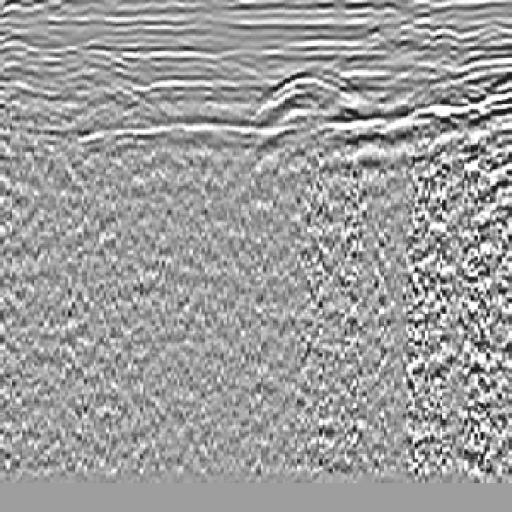metalic: (252, 55, 377, 123)
